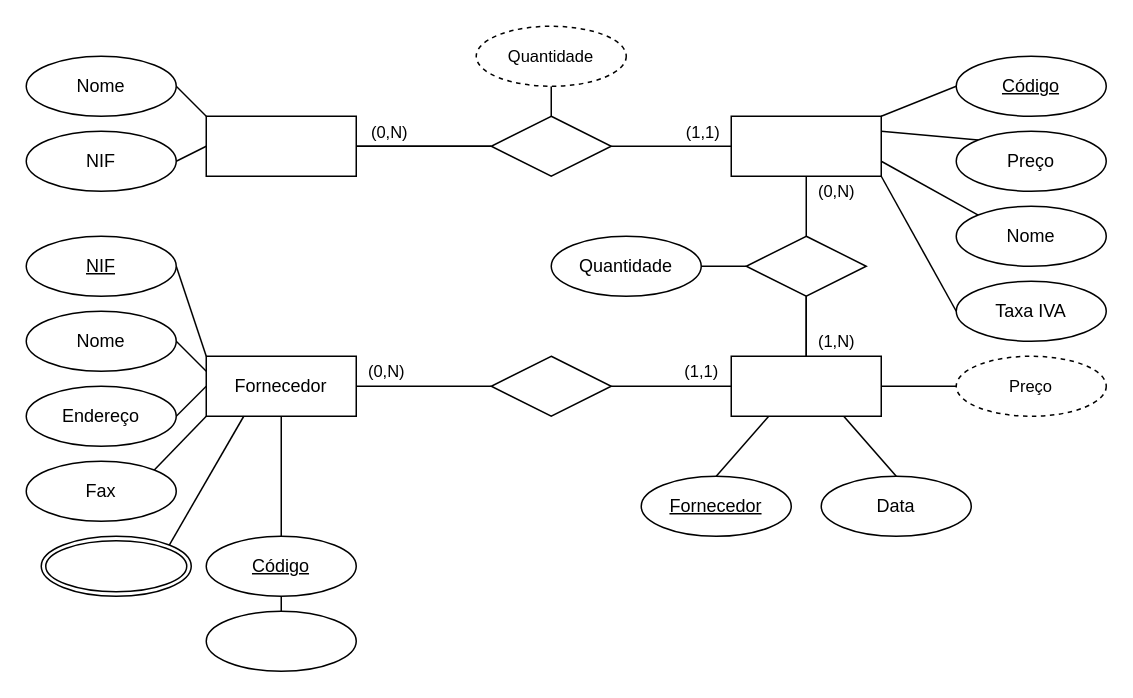
Some shapes in this 1133 by 698 pixel diagram are drawn without their labels. The shapes that lost their labels are listed below. From the top down, each one's centre as x and y in pixels, then its label:
the point at 280,145: Empresa
the point at 550,145: Possui
the point at 805,145: Produto
the point at 805,265: Composta
the point at 550,385: Realiza
the point at 805,385: Encomenda
the point at 115,565: Pagamento
the point at 280,640: Designação
